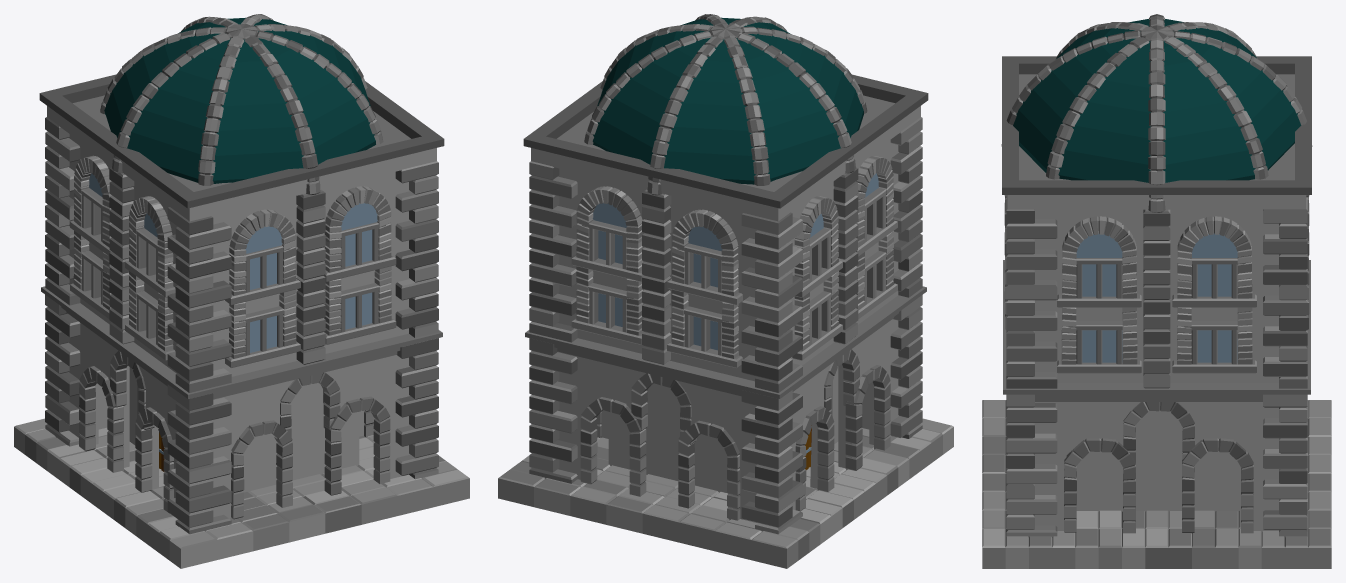
The model's file is castle_town_tower_2.fbx.
The picture shows the model from 3 angles, left to right: view 1: azimuth 30°, elevation 25°; view 2: azimuth 150°, elevation 25°; view 3: azimuth 270°, elevation 25°; orthographic projection. The views are drawn at different scales.
Parts seen in each view (by area): view 1: Cube; view 2: Cube; view 3: Cube.
Boxes of the visible parts, bbox=[...] form: Cube: bbox=[14, 14, 469, 568]; Cube: bbox=[498, 14, 953, 568]; Cube: bbox=[982, 14, 1331, 568].
Bounding box in the file's own units: 6000 × 8802 × 6000.
